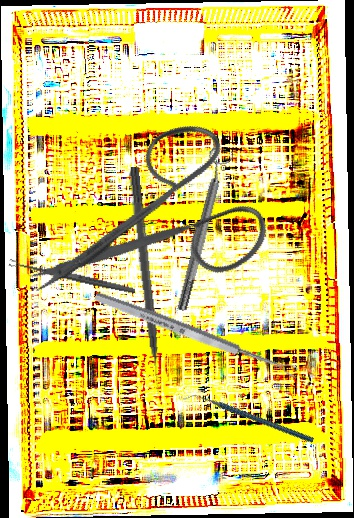Chopper: (182, 357, 315, 481)
Fixation Ring: (167, 144, 237, 314)
Iris Scissors: (22, 86, 297, 373)
Pusher: (126, 166, 164, 395)
Surgical Spoon: (93, 289, 299, 380), (8, 258, 136, 295)
